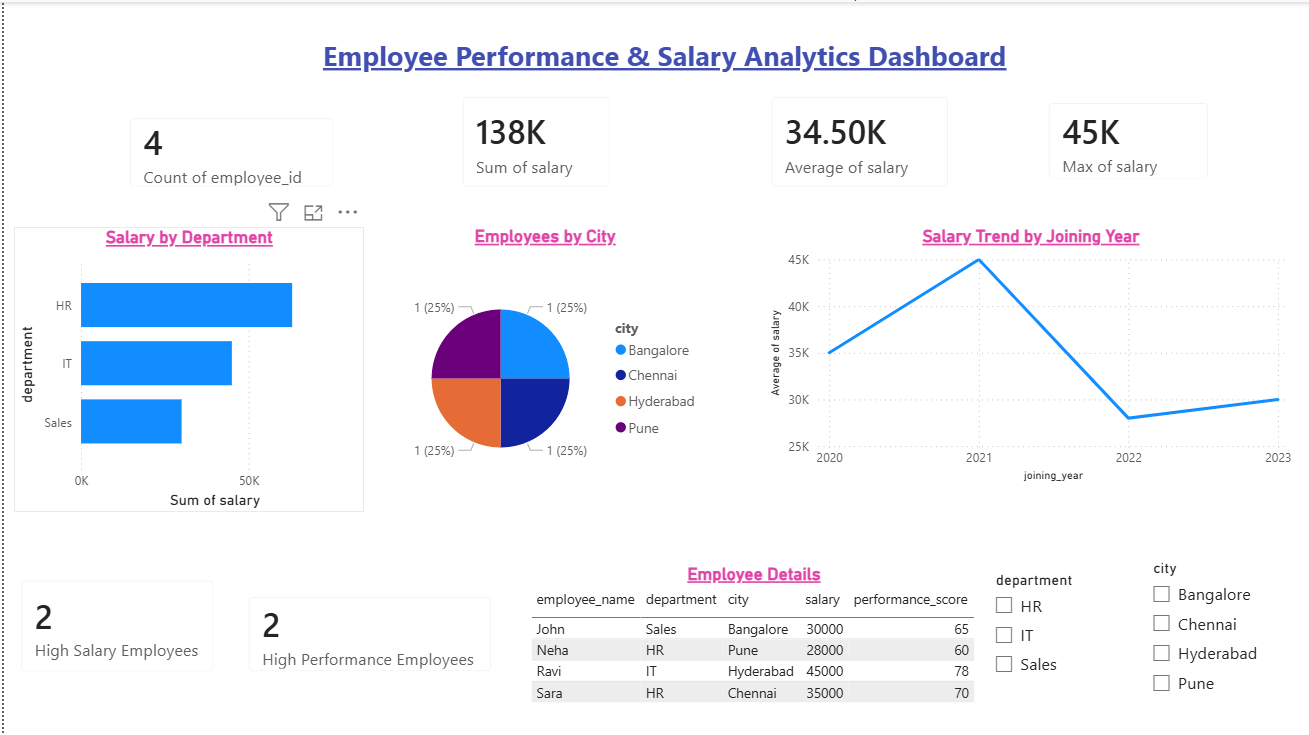

The dashboard page shown, as its layout file describes it:
{"tool":"powerbi","page":{"name":"Page 1","canvas":[1280,720],"ordinal":0},"visuals":[{"type":"cardVisual","fields":{"Data":["CountNonNull(Sheet1.employee_id)"]},"box":[119.8,89.3,233.6,101.5],"z":0},{"type":"cardVisual","fields":{"Data":["Sum(Sheet1.salary)"]},"box":[431.7,75.8,178.5,122.3],"z":1000},{"type":"cardVisual","fields":{"Data":["Avg(Sheet1.salary)"]},"box":[733.7,75.8,207.9,122.3],"z":2000},{"type":"cardVisual","fields":{"Data":["Max(Sheet1.salary)"]},"box":[1005.2,81.9,190.8,108.8],"z":3000},{"type":"clusteredBarChart","title":"Salary by Department","fields":{"Category":["Sheet1.department"],"Y":["Sum(Sheet1.salary)"]},"box":[9.6,219.6,343.1,279.9],"z":4000},{"type":"pieChart","title":"Employees by City","fields":{"Category":["Sheet1.city"],"Y":["CountNonNull(Sheet1.employee_id)"]},"box":[369.3,218.9,320.4,280],"z":5000},{"type":"lineChart","title":"Salary Trend by Joining Year","fields":{"Category":["Sheet1.joining_year"],"Y":["Avg(Sheet1.salary)"]},"box":[744.7,218.9,519.7,255.6],"z":6000},{"type":"tableEx","title":"Employee Details","fields":{"Values":["Sheet1.employee_name","Sheet1.department","Sheet1.city","Sheet1.salary","Sheet1.performance_score"]},"box":[497.7,500.1,459.8,220.1],"z":7000},{"type":"slicer","fields":{"Values":["Sheet1.department"]},"box":[970.9,546.6,154.1,149.2],"z":7001},{"type":"slicer","fields":{"Values":["Sheet1.city"]},"box":[1138.5,538,141.8,150.4],"z":7002},{"type":"cardVisual","fields":{"Data":["Sheet1.High Salary Employees"]},"box":[0,572.3,222.6,123.5],"z":7003},{"type":"cardVisual","fields":{"Data":["Sheet1.High Performance Employees"]},"box":[217.7,580.8,271.5,107.6],"z":7004},{"type":"textbox","box":[201.7,28.8,889.2,56.3],"z":7005}]}

Visuals, with their boxes in screenshot pixels (x1, y1, x2, y2), scaled from the page's 1280x720 canvas onto the 1309x735 screenshot:
cardVisual - CountNonNull(Sheet1.employee_id): box=[123, 91, 361, 195]
cardVisual - Sum(Sheet1.salary): box=[441, 77, 624, 202]
cardVisual - Avg(Sheet1.salary): box=[750, 77, 963, 202]
cardVisual - Max(Sheet1.salary): box=[1028, 84, 1223, 195]
"Salary by Department" clusteredBarChart: box=[10, 224, 361, 510]
"Employees by City" pieChart: box=[378, 223, 705, 509]
"Salary Trend by Joining Year" lineChart: box=[762, 223, 1293, 484]
"Employee Details" tableEx: box=[509, 511, 979, 734]
slicer - Sheet1.department: box=[993, 558, 1150, 710]
slicer - Sheet1.city: box=[1164, 549, 1308, 703]
cardVisual - Sheet1.High Salary Employees: box=[0, 584, 228, 710]
cardVisual - Sheet1.High Performance Employees: box=[223, 593, 500, 703]
textbox: box=[206, 29, 1116, 87]
